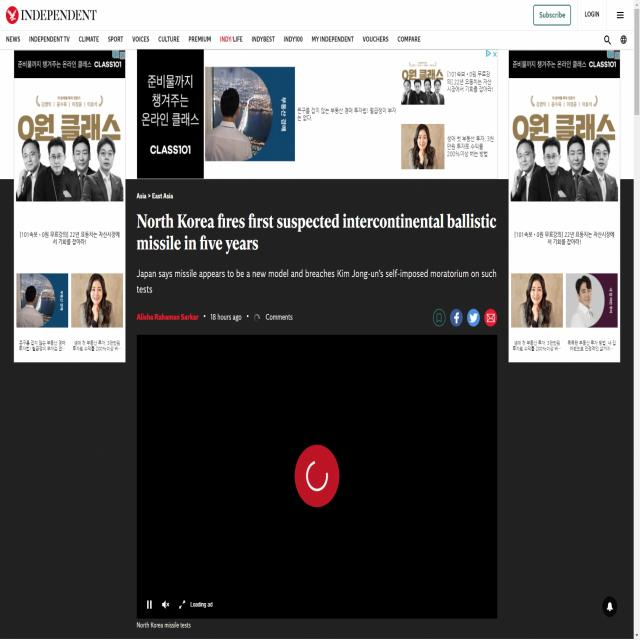control-bar: (137, 592, 230, 618)
menu-bar: (1, 28, 429, 50)
